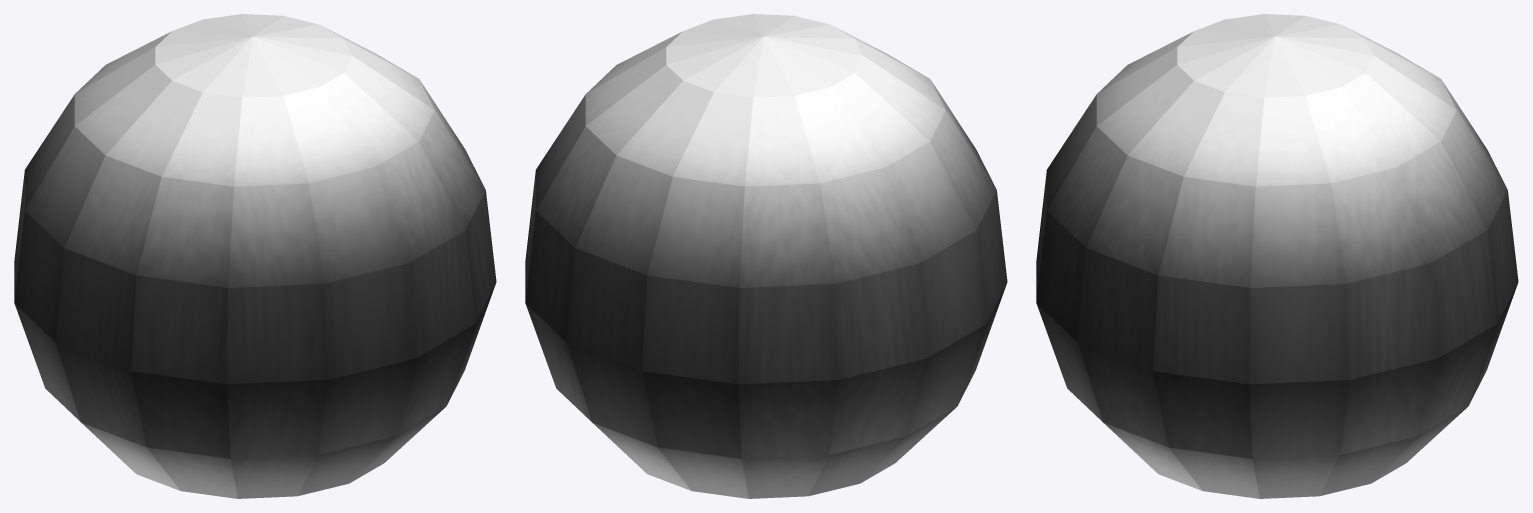
Rendered from 0495_yuan2.glb.
3 views of the same model, side by side, from view 1: azimuth 30°, elevation 25°; view 2: azimuth 150°, elevation 25°; view 3: azimuth 270°, elevation 25° (orthographic).
Bounding box in the file's own units: 2.18 × 2.2 × 2.16.
1 material, 1 textured.
